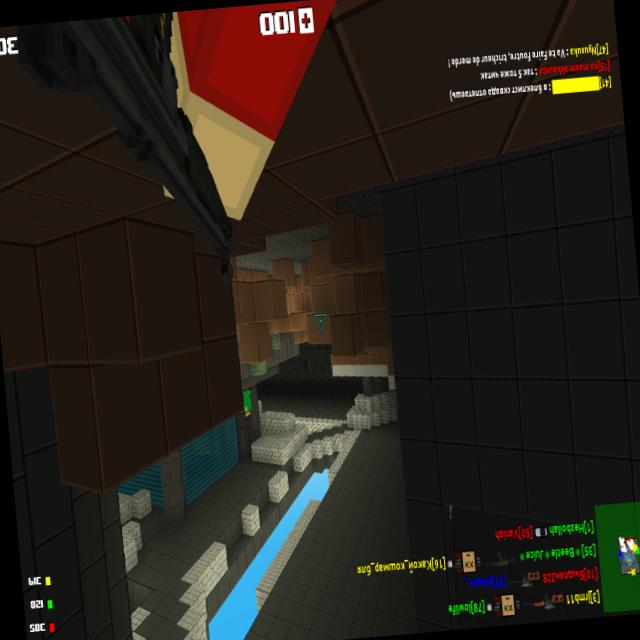enemy: (242, 386, 254, 419)
